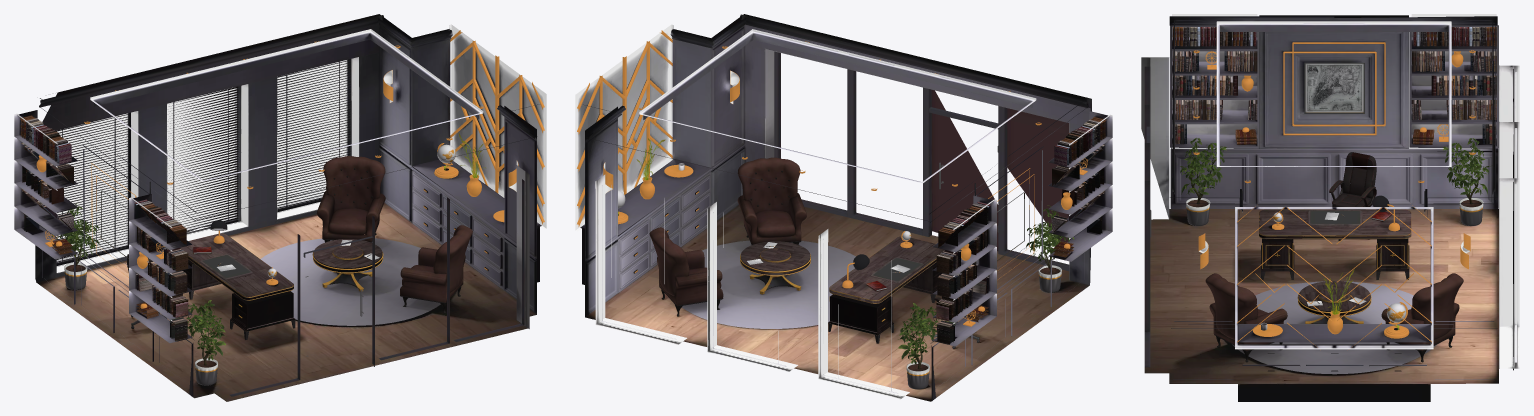
3 views of the same model, side by side, from view 1: azimuth 30°, elevation 25°; view 2: azimuth 150°, elevation 25°; view 3: azimuth 270°, elevation 25° (orthographic). The views are drawn at different scales.
Visible parts, largest first — view 1: walls, Cube.018, Plane, Back_low.003, Cube.004, Cube.019, walls.001, Cube.007, Cube.036, pachira_aquatica_01_bark_c.002, Cube.006, Cube.010 (+5 smaller); view 2: walls, Back_low.003, Cube.004, Cube.019, Plane, walls.001, Cube.007, Cube.036, pachira_aquatica_01_bark_c.002, Cube.006, Cube.010, Cube.002 (+4 smaller); view 3: walls, Cube.012, Cube.004, Cube.019, Plane, Back_low.003, Cube.036, pachira_aquatica_01_bark_c.002, walls.001, paintings, Cube.010, Cube.002 (+8 smaller).
Boxes of the visible parts, <box> form: walls: <box>35,14,546,401</box>; Cube.018: <box>56,60,349,264</box>; Plane: <box>260,238,440,325</box>; Back_low.003: <box>316,156,472,313</box>; Cube.004: <box>14,110,192,343</box>; Cube.019: <box>20,115,188,341</box>; walls.001: <box>39,15,540,220</box>; Cube.007: <box>412,173,501,285</box>; Cube.036: <box>180,233,293,300</box>; pachira_aquatica_01_bark_c.002: <box>52,203,226,385</box>; Cube.006: <box>450,30,544,224</box>; Cube.010: <box>412,159,539,289</box>; walls: <box>575,14,1091,401</box>; Back_low.003: <box>649,157,806,316</box>; Cube.004: <box>932,111,1112,346</box>; Cube.019: <box>936,116,1106,344</box>; Plane: <box>682,240,855,328</box>; walls.001: <box>583,14,1088,222</box>; Cube.007: <box>619,175,710,288</box>; Cube.036: <box>829,236,944,303</box>; pachira_aquatica_01_bark_c.002: <box>898,205,1074,389</box>; Cube.006: <box>577,30,672,226</box>; Cube.010: <box>582,159,710,292</box>; Cube.002: <box>828,262,942,343</box>; walls: <box>1141,15,1519,401</box>; Cube.012: <box>1170,148,1498,208</box>; Cube.004: <box>1170,14,1498,148</box>; Cube.019: <box>1173,27,1496,144</box>; Plane: <box>1232,281,1435,374</box>; Back_low.003: <box>1205,273,1463,362</box>; Cube.036: <box>1259,209,1411,239</box>; pachira_aquatica_01_bark_c.002: <box>1176,138,1490,225</box>; walls.001: <box>1169,16,1497,217</box>; paintings: <box>1304,62,1364,113</box>; Cube.010: <box>1238,324,1430,342</box>; Cube.002: <box>1261,238,1409,279</box>.
Bounding box in the file's own units: 8.64 × 3.98 × 6.65.
4 materials, 4 textured.
